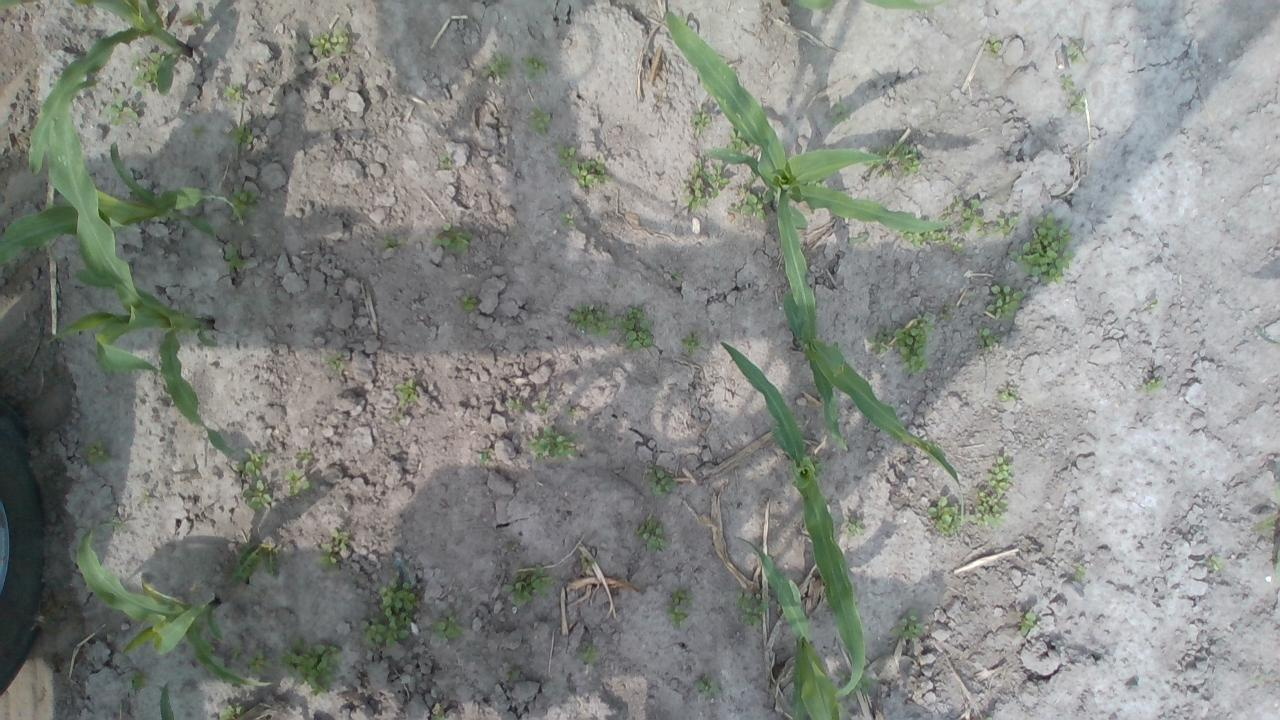Maize: (42, 76, 230, 461), (661, 8, 952, 236), (773, 184, 967, 490), (713, 330, 869, 698), (77, 518, 276, 691), (0, 0, 195, 175), (0, 144, 248, 266), (732, 533, 848, 720), (156, 681, 252, 720), (778, 0, 950, 9)
Weeds: (1006, 212, 1074, 286), (275, 638, 342, 697), (360, 577, 416, 645), (1250, 483, 1280, 578), (682, 155, 729, 210), (894, 313, 936, 373), (228, 542, 282, 587), (500, 564, 554, 606), (864, 140, 922, 178), (522, 424, 580, 461), (565, 300, 615, 340), (615, 304, 655, 351), (729, 186, 777, 222), (968, 487, 1008, 530), (926, 496, 966, 538), (126, 47, 162, 93), (982, 284, 1024, 322), (314, 528, 350, 572), (731, 588, 770, 627), (632, 512, 669, 552), (102, 89, 140, 126), (430, 222, 473, 254), (662, 586, 694, 628), (308, 26, 351, 57), (835, 668, 874, 702), (984, 454, 1014, 496), (646, 461, 678, 500), (570, 157, 610, 187), (228, 182, 258, 222), (958, 199, 988, 239), (898, 228, 952, 250), (888, 609, 926, 640), (234, 446, 268, 479), (428, 610, 464, 641), (242, 479, 272, 511), (282, 467, 311, 498), (691, 671, 723, 698), (865, 326, 893, 356), (520, 53, 548, 82), (84, 439, 112, 468), (245, 648, 272, 678), (481, 52, 512, 78), (527, 107, 552, 136), (992, 212, 1022, 236), (395, 377, 418, 407), (841, 513, 866, 539), (828, 99, 852, 126), (690, 108, 711, 138), (726, 128, 750, 154), (228, 123, 254, 146), (1067, 37, 1088, 65), (224, 243, 244, 272), (576, 640, 600, 664), (977, 328, 999, 354), (940, 195, 961, 221), (222, 82, 245, 105), (189, 7, 214, 28), (380, 232, 406, 252), (1066, 92, 1088, 115), (681, 330, 701, 355), (554, 144, 576, 166), (126, 670, 148, 692), (218, 702, 244, 720), (1018, 612, 1037, 636), (1140, 376, 1166, 393), (326, 350, 346, 372), (576, 552, 597, 572), (1056, 75, 1076, 95), (459, 292, 479, 312), (984, 34, 1002, 56), (556, 210, 576, 227), (1206, 554, 1224, 572), (939, 302, 956, 321), (995, 386, 1016, 401), (506, 396, 526, 411), (293, 448, 314, 462), (437, 153, 454, 170), (1072, 564, 1088, 582), (534, 397, 550, 415), (431, 702, 446, 720), (111, 516, 128, 531), (226, 645, 244, 659), (811, 455, 823, 476), (502, 666, 518, 681), (848, 232, 868, 244), (1146, 296, 1160, 312), (476, 451, 490, 467), (747, 168, 758, 188), (326, 72, 341, 86), (190, 124, 207, 136), (140, 490, 152, 505), (951, 240, 964, 253), (669, 267, 683, 279), (807, 178, 824, 187), (564, 406, 578, 416), (832, 340, 842, 352)
